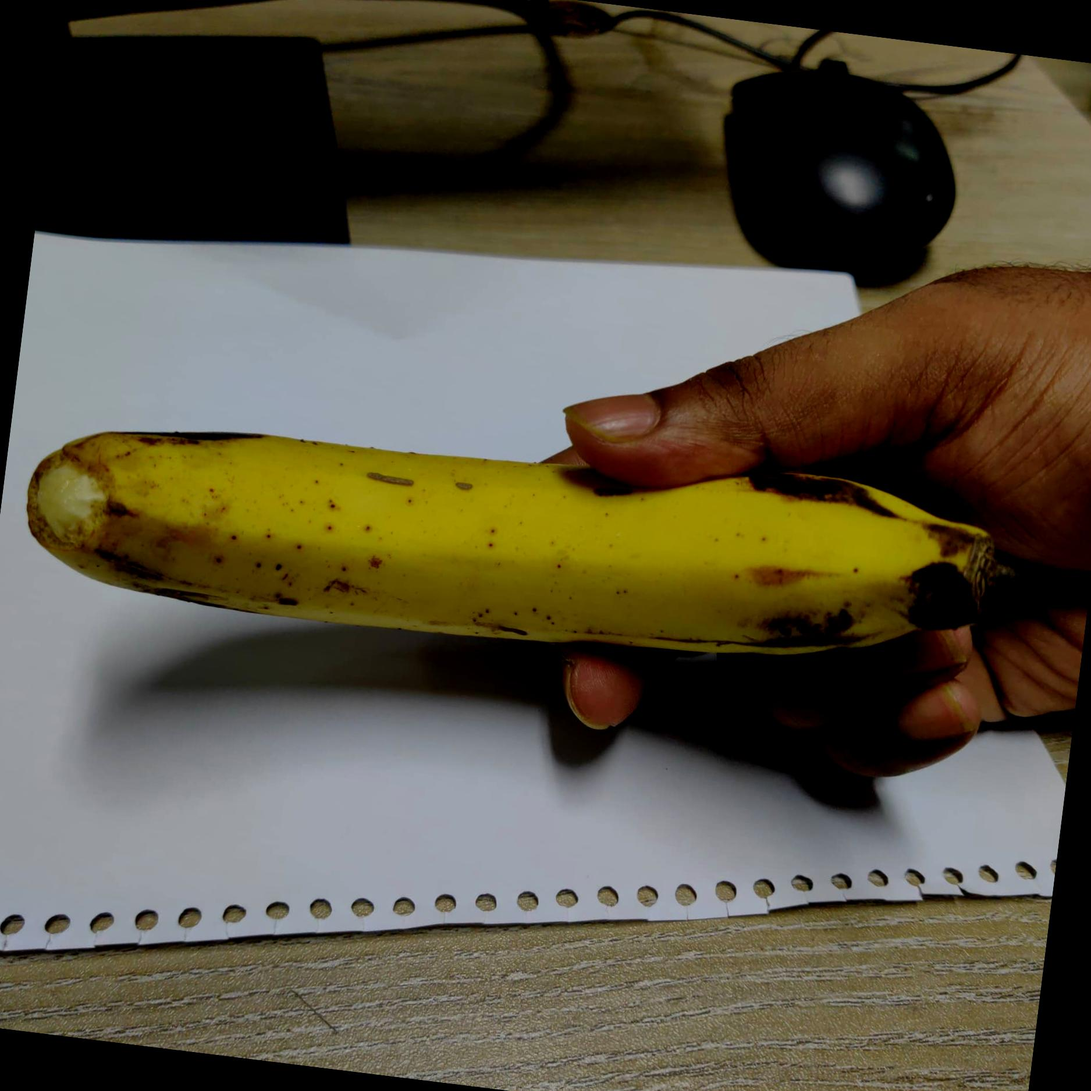Banana Ripe: (8, 363, 1075, 755)
